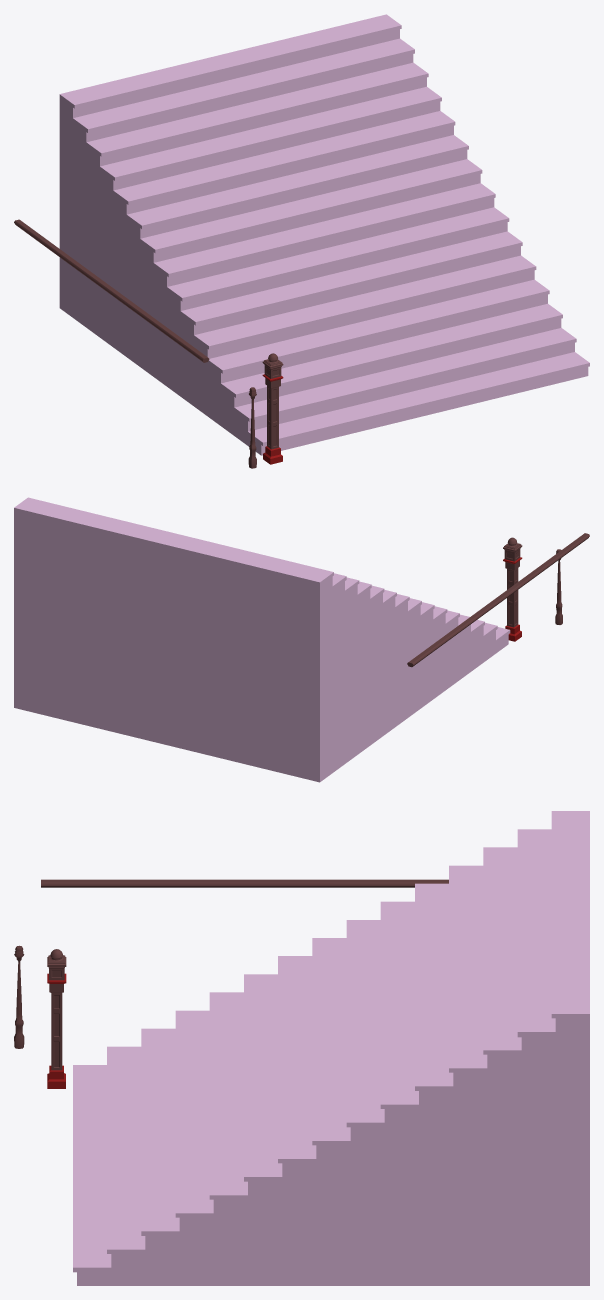
File: Stairs.fbx
3 views of the same model, one above another, from view 1: azimuth 30°, elevation 25°; view 2: azimuth 150°, elevation 25°; view 3: azimuth 270°, elevation 25° (orthographic). The views are drawn at different scales.
Visible parts, largest first — view 1: Stairs, Stairs_railing, Fence_pilar; view 2: Stairs, Stairs_railing, Fence_pilar; view 3: Stairs, Stairs_railing, Fence_pilar, Fence.
Boxes of the visible parts, x1,y1,x2,y2 form: Stairs: (59,14,589,455); Stairs_railing: (14,219,209,362); Fence_pilar: (262,353,283,464); Stairs: (14,497,510,782); Stairs_railing: (407,533,589,667); Fence_pilar: (503,537,522,641); Stairs: (73,811,589,1285); Stairs_railing: (41,879,448,887); Fence_pilar: (47,949,66,1088); Fence: (14,945,24,1048).
Size of the model in its own units: 489 by 250 by 480.
